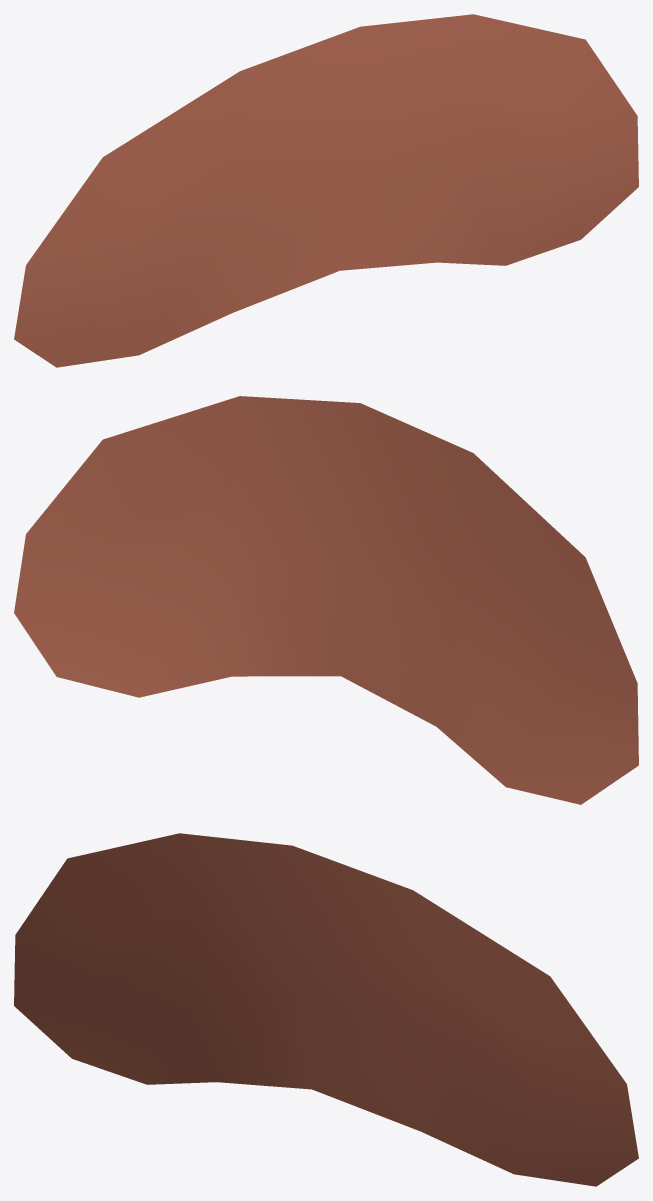
Rendered from Mouth_White_7.fbx.
3 views of the same model, one above another, from view 1: azimuth 30°, elevation 25°; view 2: azimuth 150°, elevation 25°; view 3: azimuth 330°, elevation 25° (orthographic).
Visible parts, largest first — view 1: Mouth_White_7; view 2: Mouth_White_7; view 3: Mouth_White_7.
Part boxes in pixels (x1,y1,x2,y2): Mouth_White_7: (14,14,638,367); Mouth_White_7: (14,396,638,804); Mouth_White_7: (14,833,638,1186).
Bounding box in the file's own units: 7.44 × 3.55 × 0.8569.
